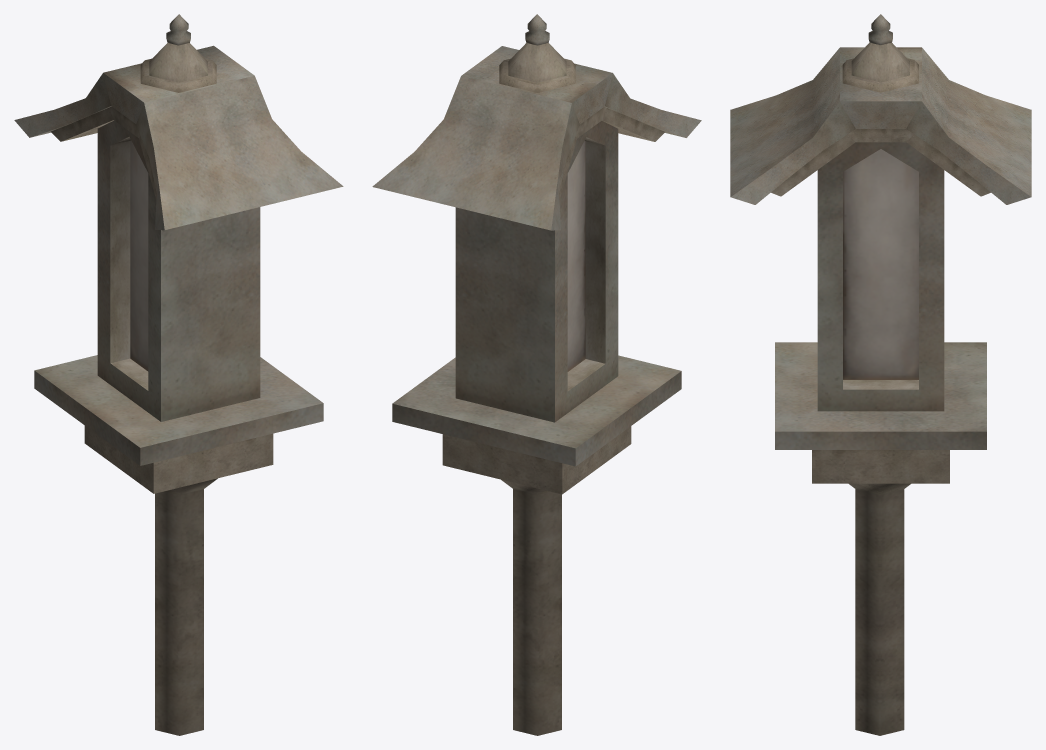
Rendered from handan_field_a_e02.fbx.
3 views of the same model, side by side, from view 1: azimuth 30°, elevation 25°; view 2: azimuth 150°, elevation 25°; view 3: azimuth 270°, elevation 25° (orthographic).
Visible parts, largest first — view 1: handan_field_a_e3; view 2: handan_field_a_e3; view 3: handan_field_a_e3.
Boxes of the visible parts, x1,y1,x2,y2 form: handan_field_a_e3: (14, 14, 343, 735); handan_field_a_e3: (372, 14, 701, 735); handan_field_a_e3: (730, 14, 1031, 735).
Size of the model in its own units: 119 by 441 by 169.
